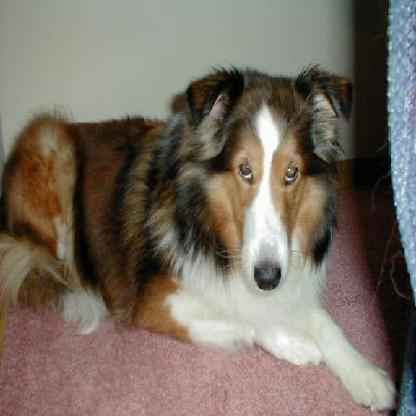Shetland_sheepdog: (0, 60, 398, 414)
